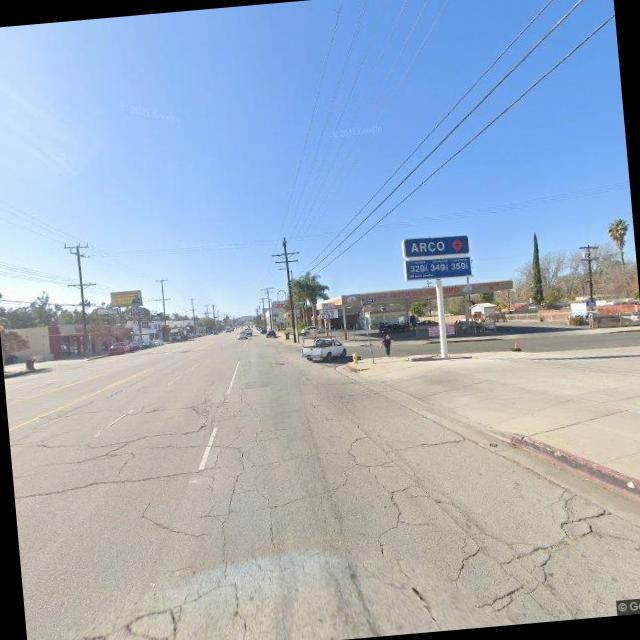crack: (36, 372, 640, 640)
